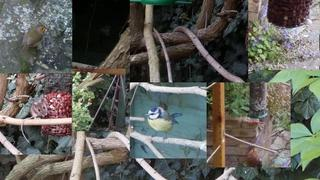blue tit: (145, 106, 183, 143)
mouse: (20, 97, 48, 144)
robin: (20, 24, 48, 55)
